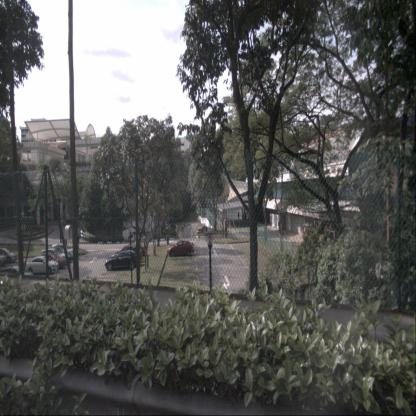vehicle-car: (0, 266, 34, 289), (104, 251, 141, 271), (25, 256, 59, 275), (111, 247, 143, 265), (41, 248, 71, 265), (167, 240, 195, 257), (38, 252, 66, 269), (52, 244, 75, 260), (0, 247, 17, 263), (126, 243, 145, 257), (163, 228, 177, 237), (196, 225, 208, 235), (0, 251, 7, 266)
